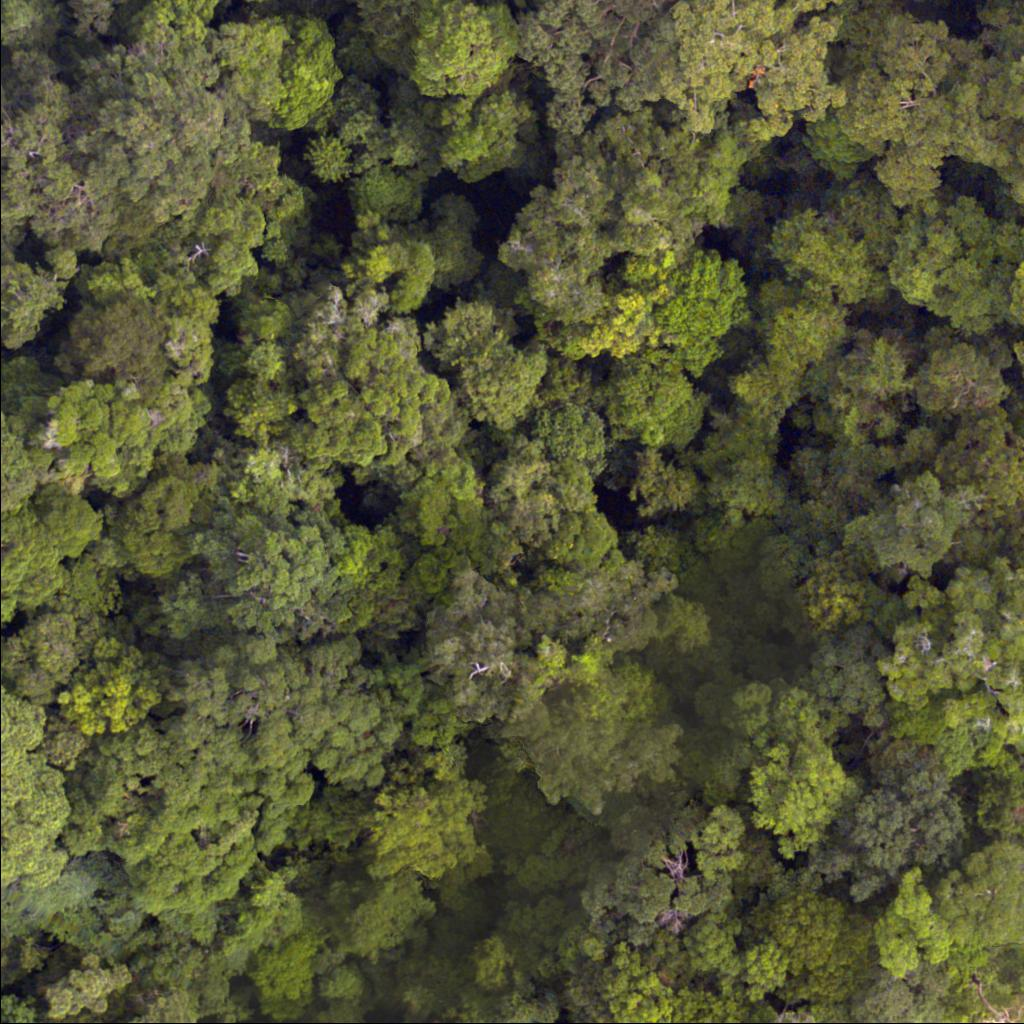crown: (60, 34, 238, 207), (0, 76, 115, 257), (415, 296, 542, 456), (820, 764, 962, 898), (594, 811, 729, 947), (884, 196, 993, 335), (767, 188, 904, 292), (66, 303, 173, 405), (568, 938, 670, 1023), (604, 355, 702, 443), (1005, 264, 1023, 332)
